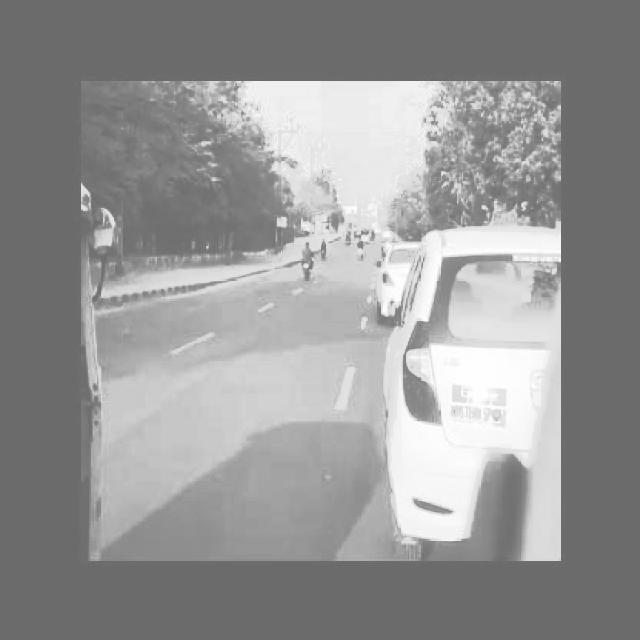Car: (388, 235, 564, 538), (374, 232, 408, 320)
